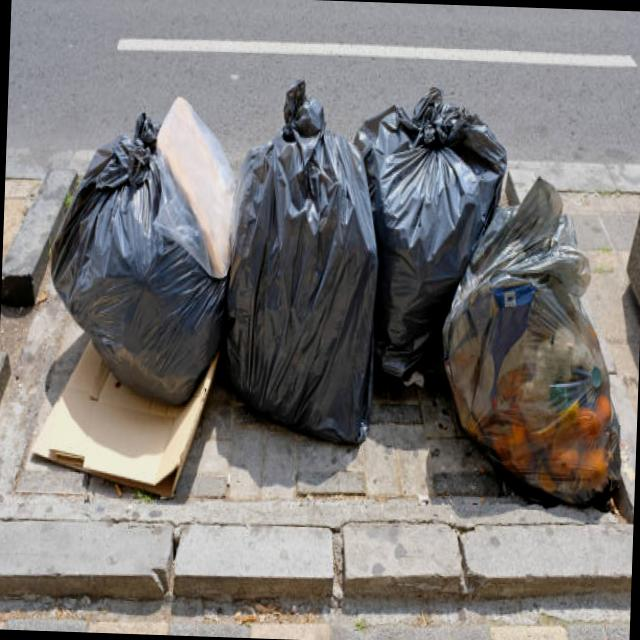garbage: (40, 69, 633, 520)
